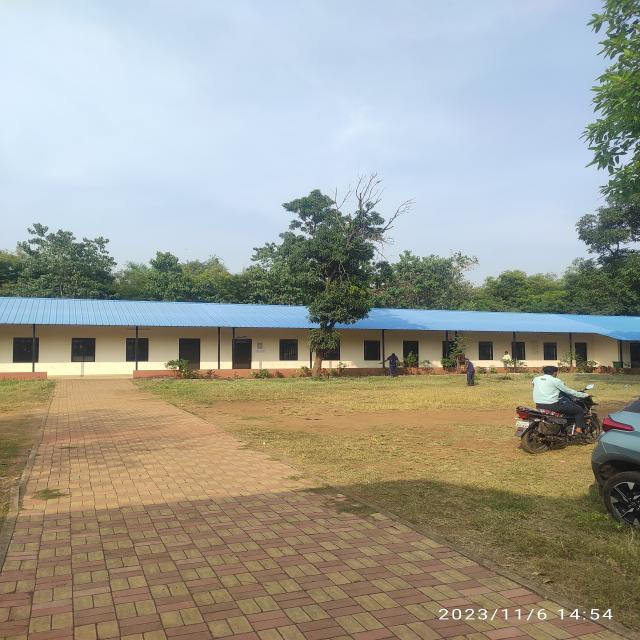Mango Tree: (281, 192, 363, 355), (575, 205, 640, 294)
